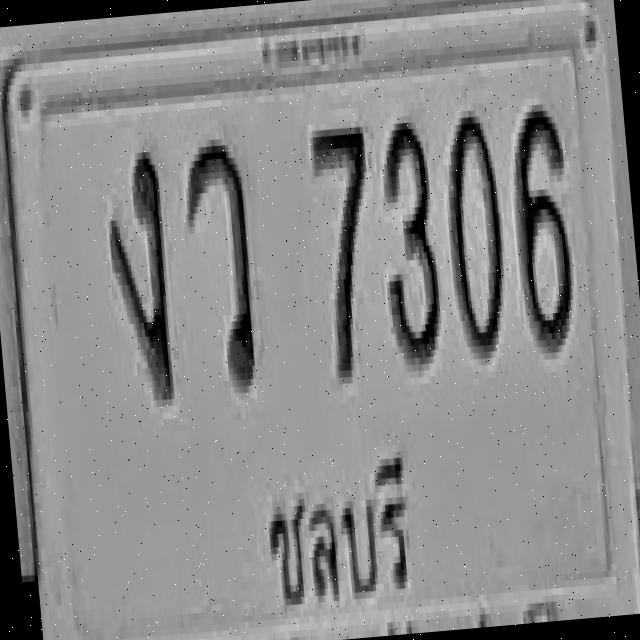0: (438, 106, 511, 357)
16NgorNgu: (100, 144, 178, 402)
3: (372, 114, 444, 366)
46WorWaen: (180, 134, 260, 392)
6: (507, 100, 579, 350)
7: (308, 120, 384, 378)
Chonburi: (256, 441, 426, 634)
